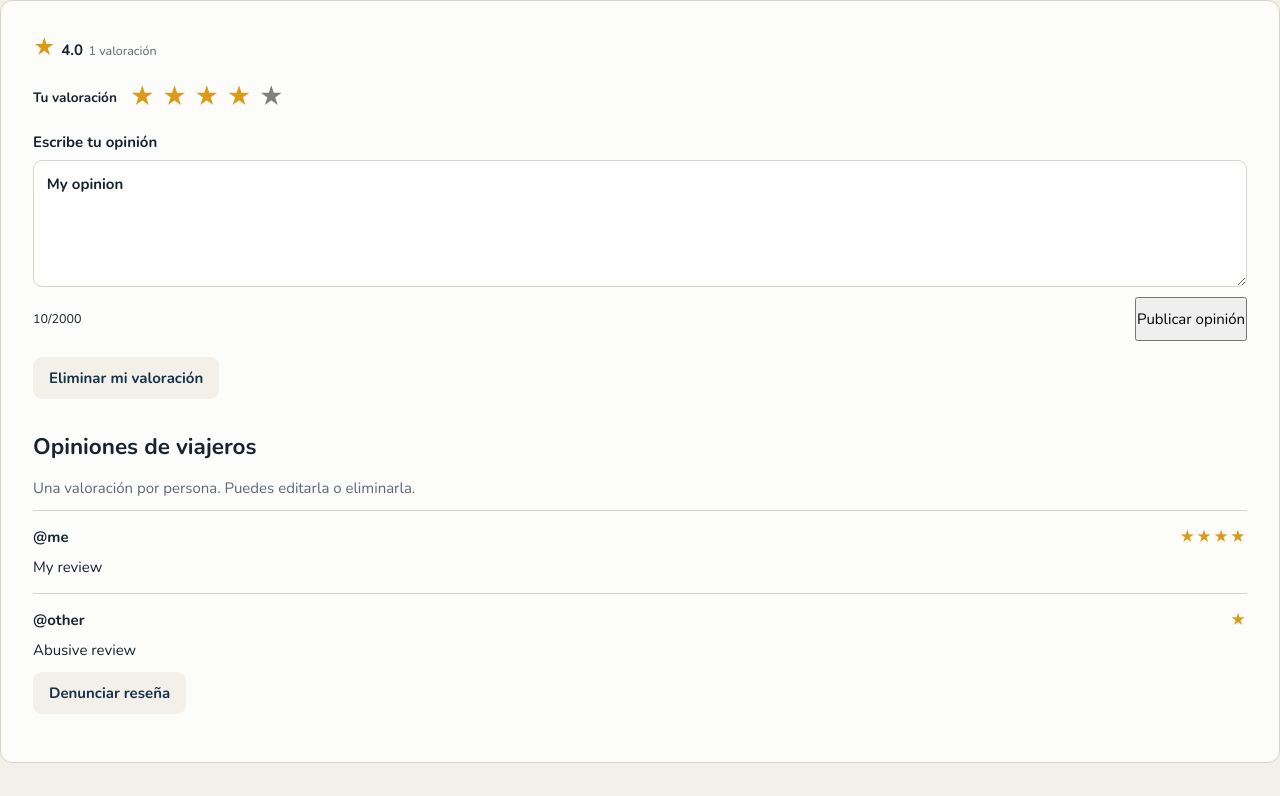
Test case: reports another review with a reason and hides reporting on own reviews
Click the button "Denunciar reseña" at (110, 693), box [33,672,186,714]
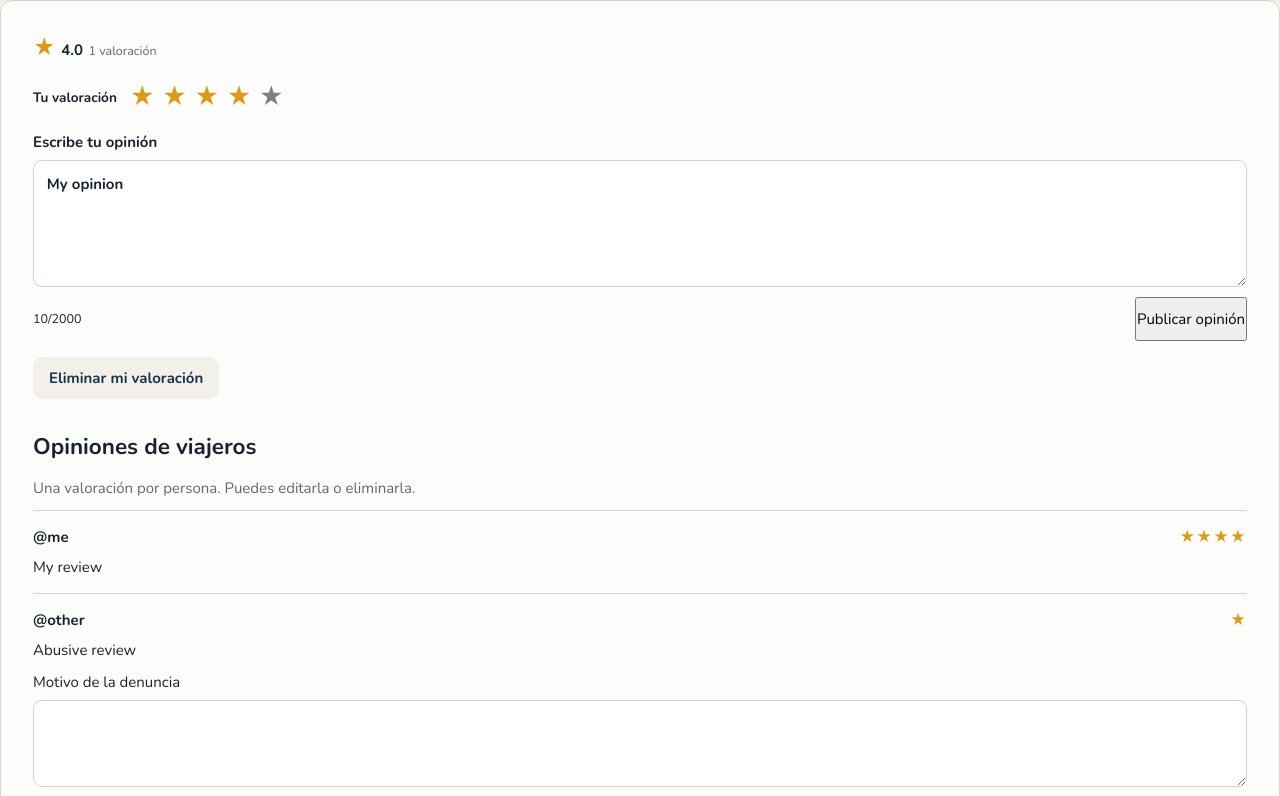
Type "Insultos" into the text box labelled "Motivo de la denuncia" at (640, 743), box [33,700,1247,787]
(page scrolled)
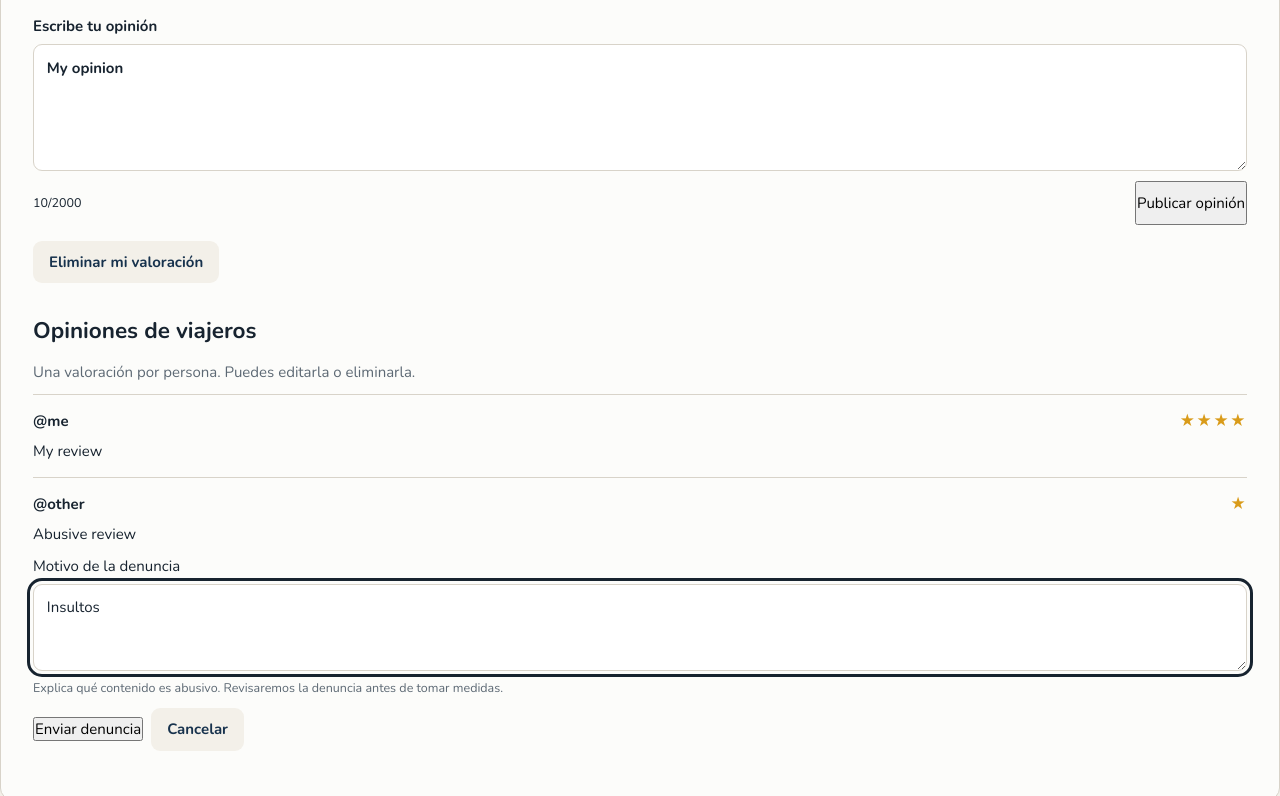
Click the button "Enviar denuncia" at (88, 729), box [33,717,143,741]
(page scrolled)
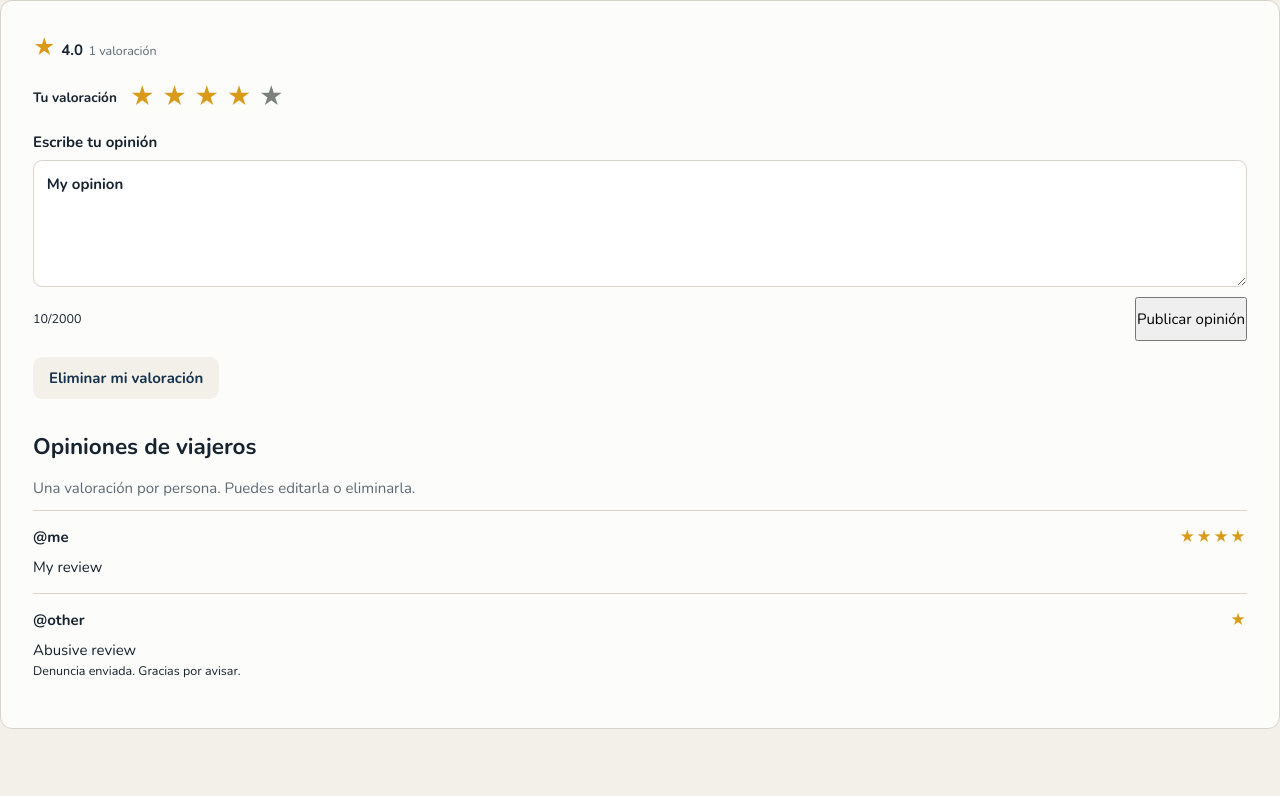
Check: the text "Denuncia enviada. Gracias por avisar." is shown, box [33,662,240,678]
